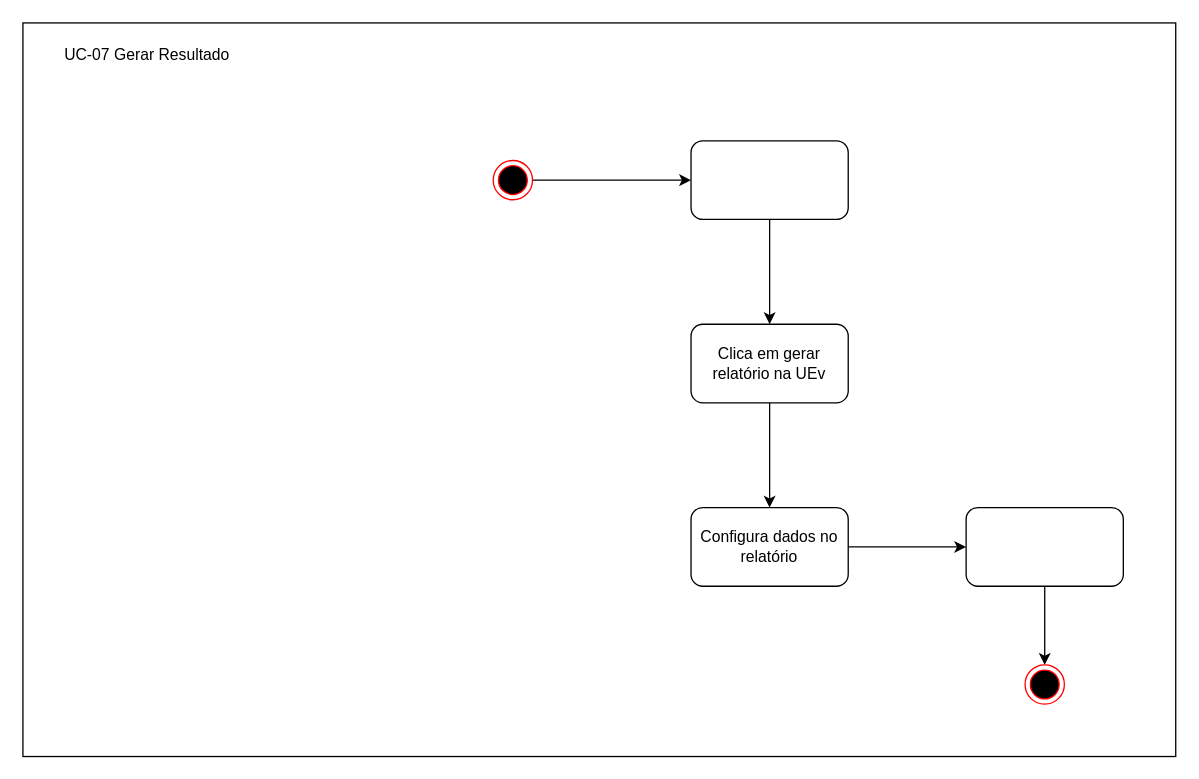
Some shapes in this 1199 by 779 pixel diagram are drawn without their labels. The shapes that lost their labels are listed below. From the top down, each one's centre as x and y in pixels, then its label:
point (769, 179): Tela de Listagem de UEv
point (1044, 546): Gera o relatório
